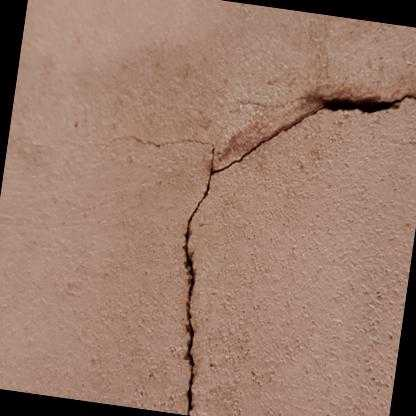crack: (184, 93, 416, 415)
